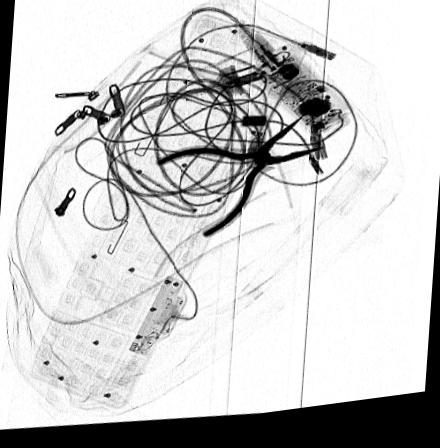Pliers: (153, 120, 324, 243)
